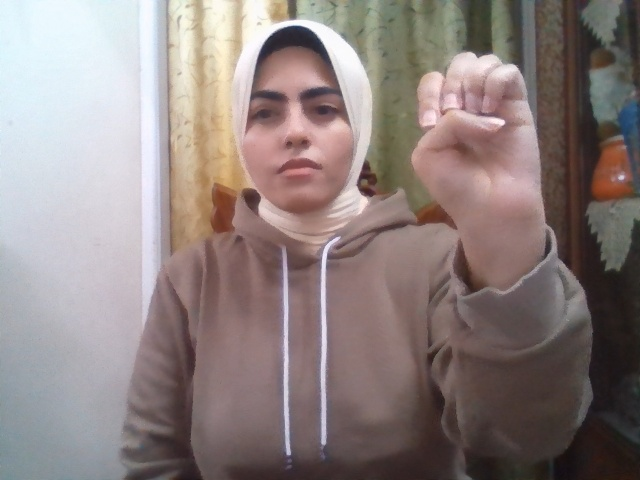E: (411, 53, 543, 240)
